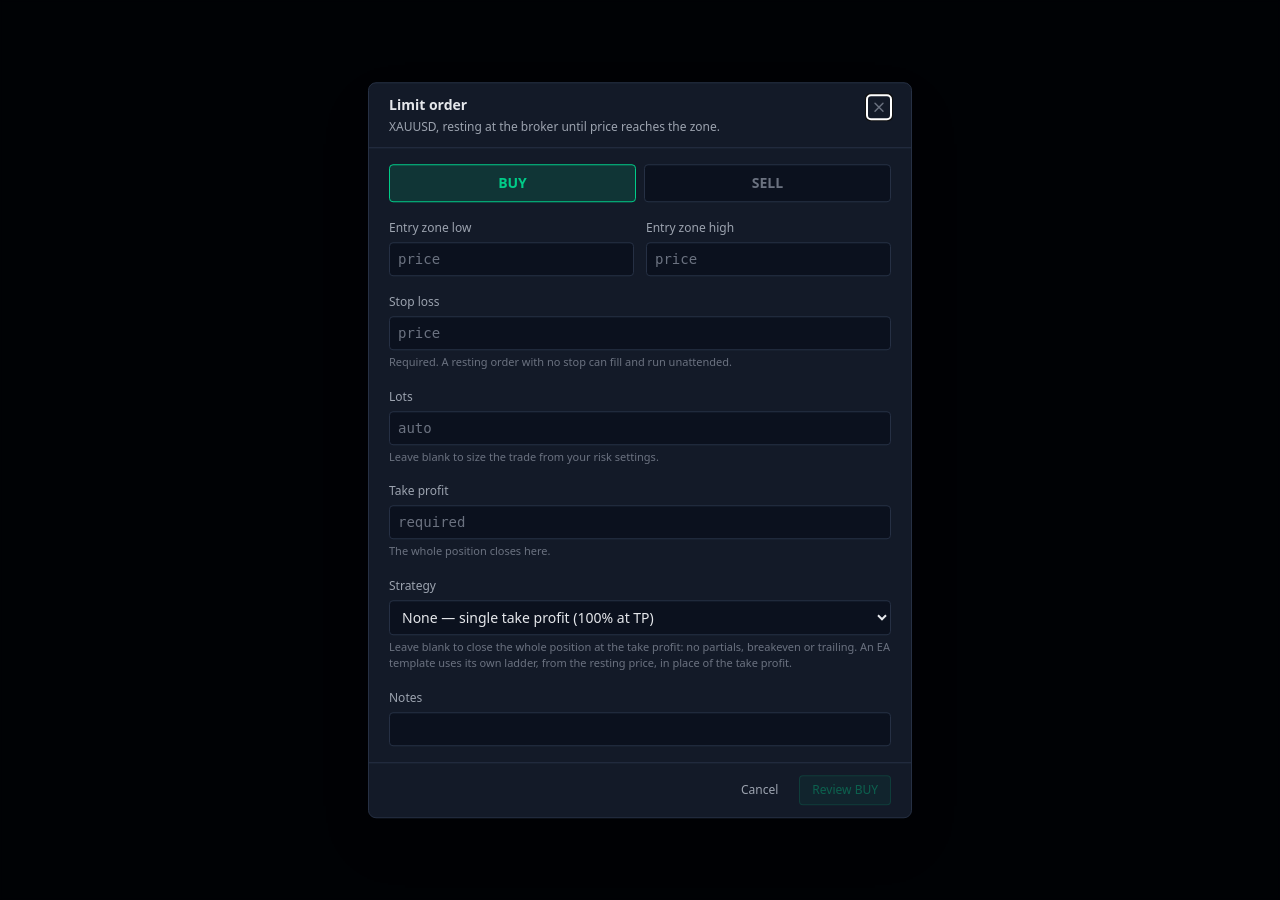
Test: the confirmation › names the instrument, direction, size and both edges of the zone
Type "2430" into the field labelled "Entry zone low" at point(512, 259), box [389,242,634,276]
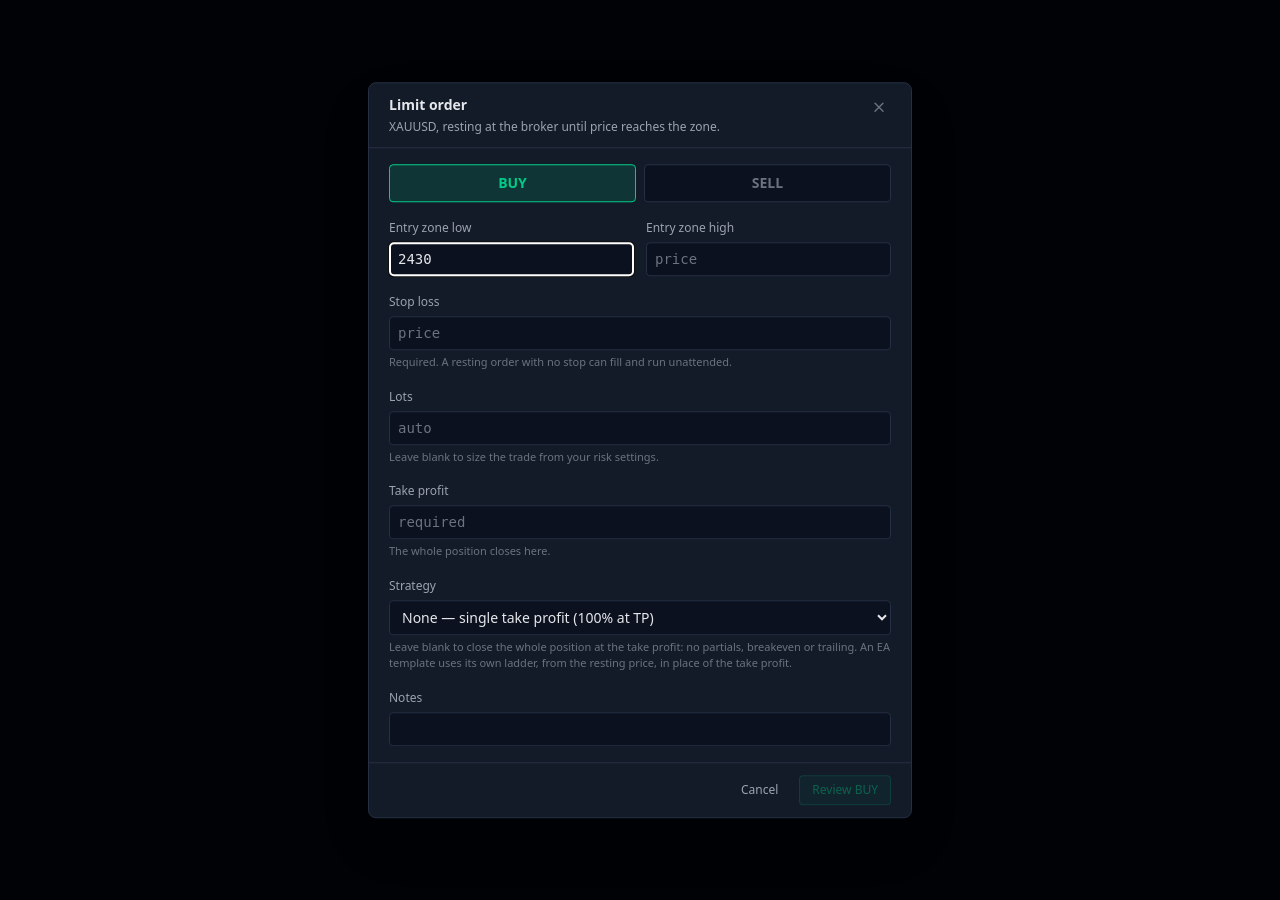
Type "2432" into the field labelled "Entry zone high" at point(768, 259), box [646,242,891,276]
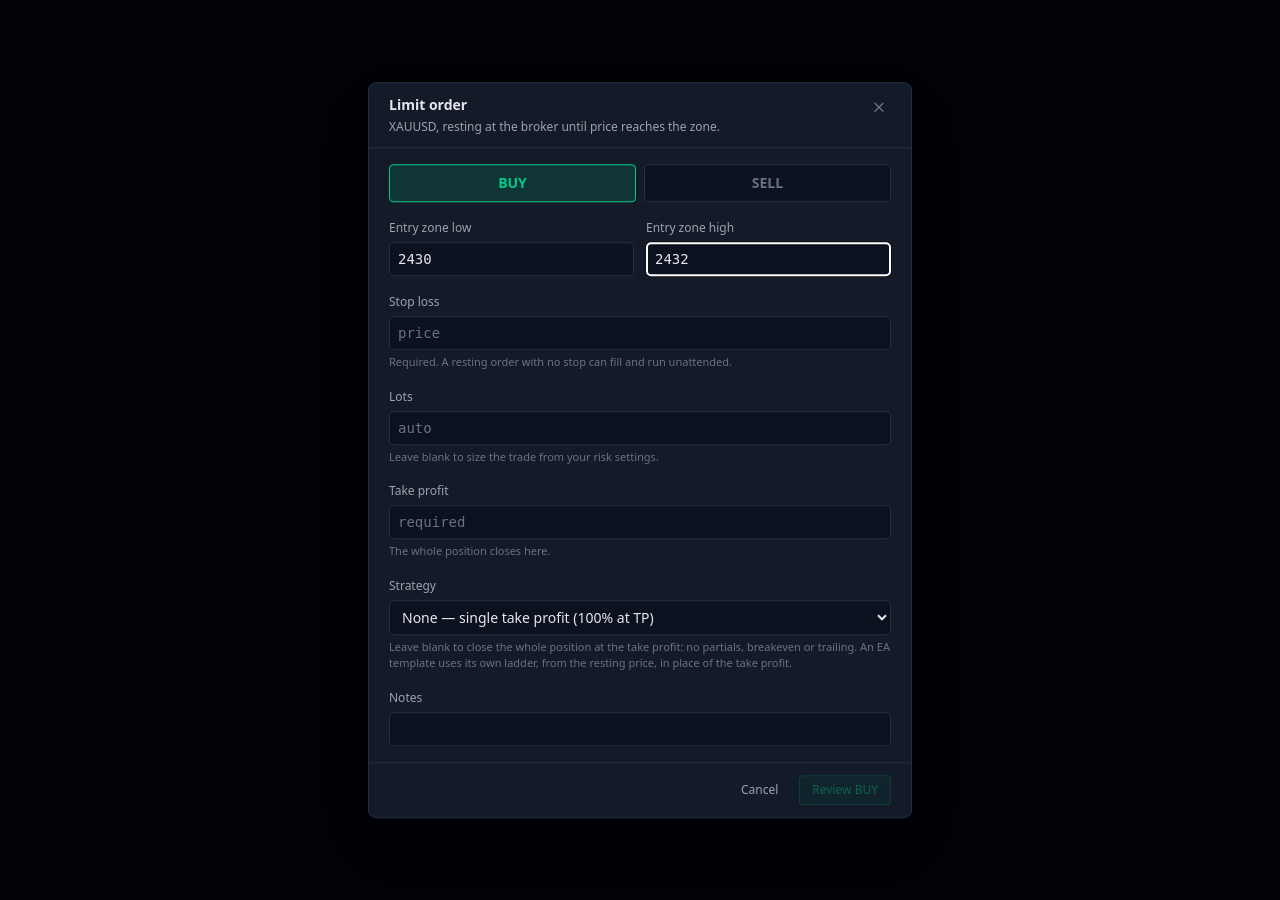
Type "2421" into the field labelled "Stop loss" at point(640, 333), box [389,316,891,350]
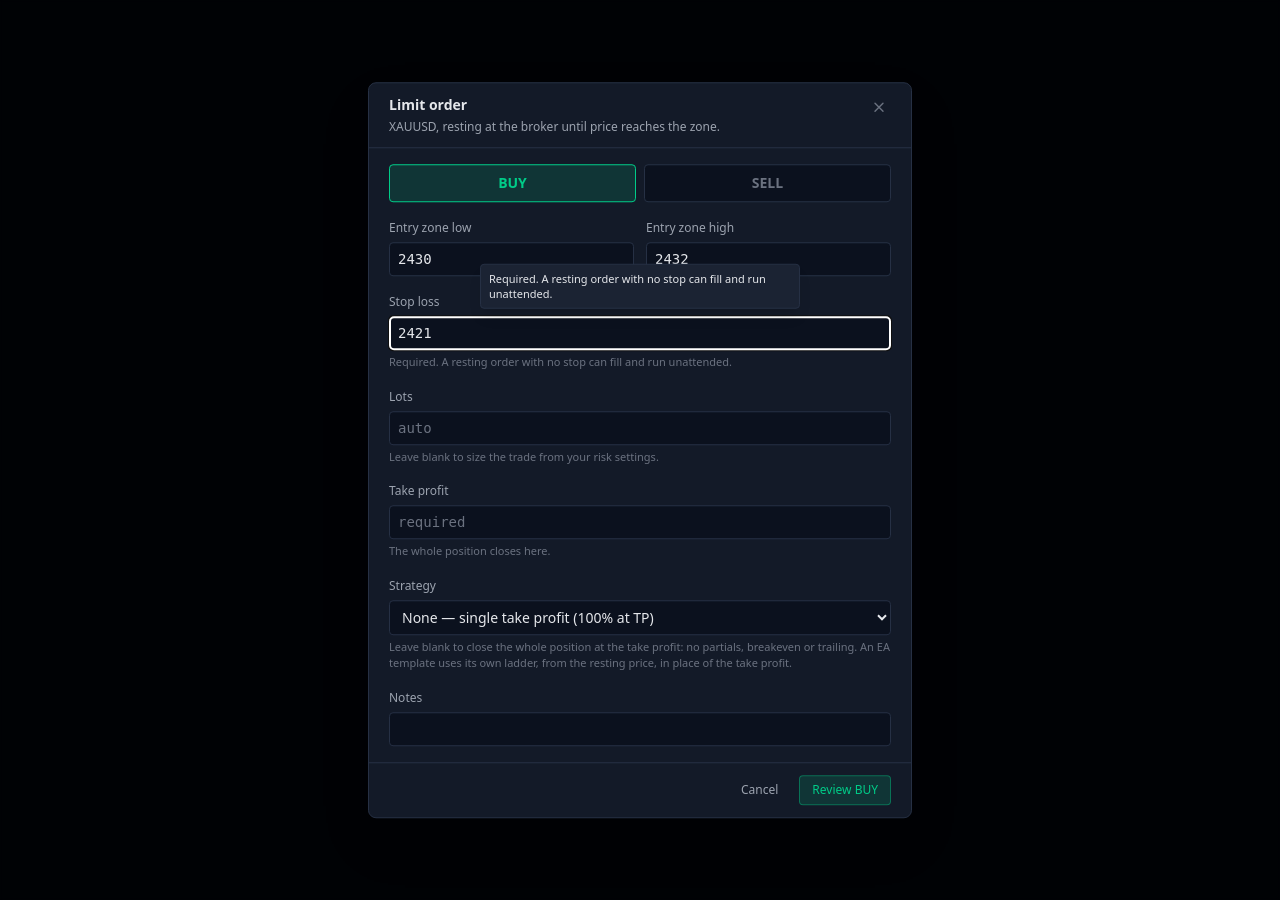
Type "0.05" into the field labelled "Lots" at point(640, 428), box [389,411,891,445]
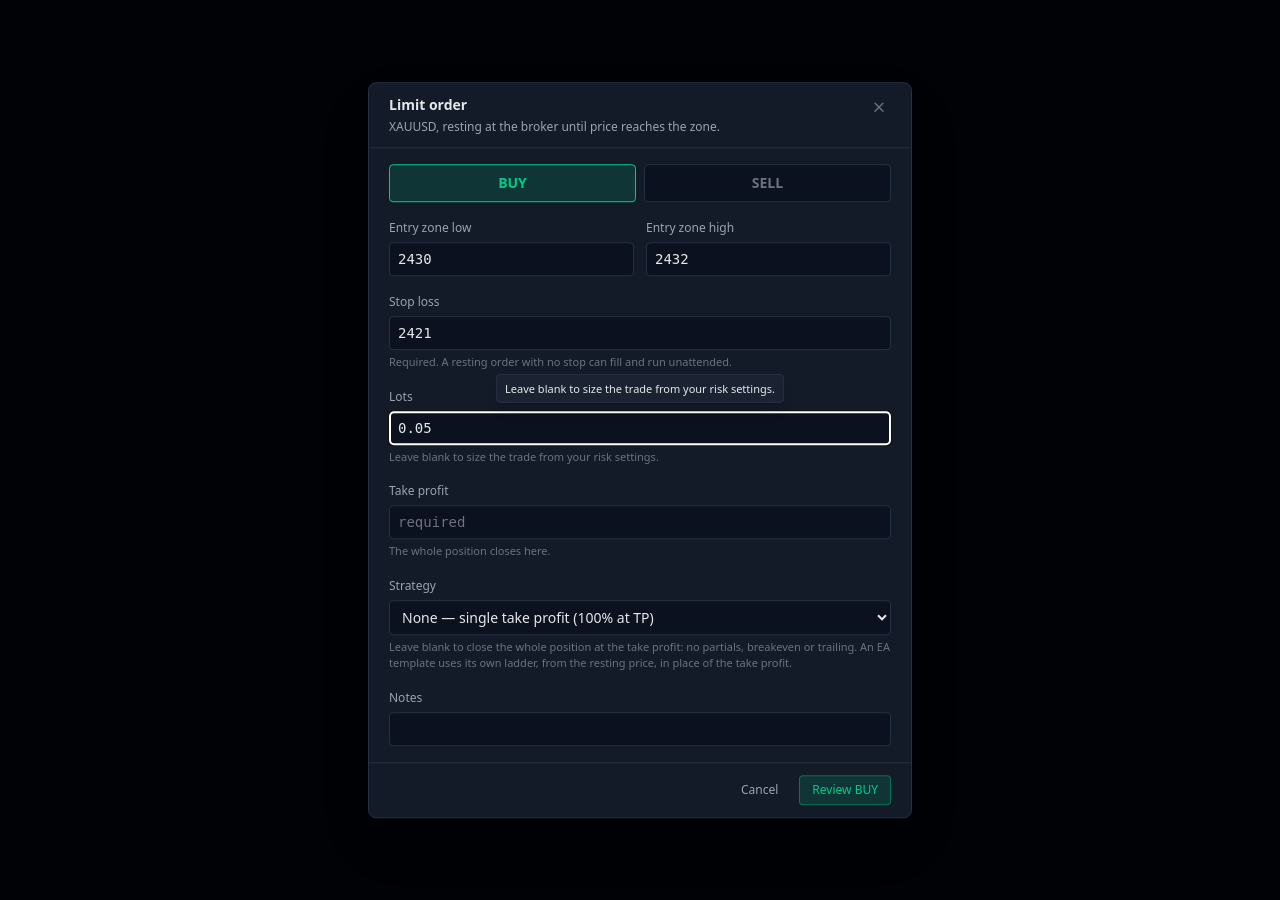
Click the button "Review BUY" at point(845, 790), box [799,775,891,805]
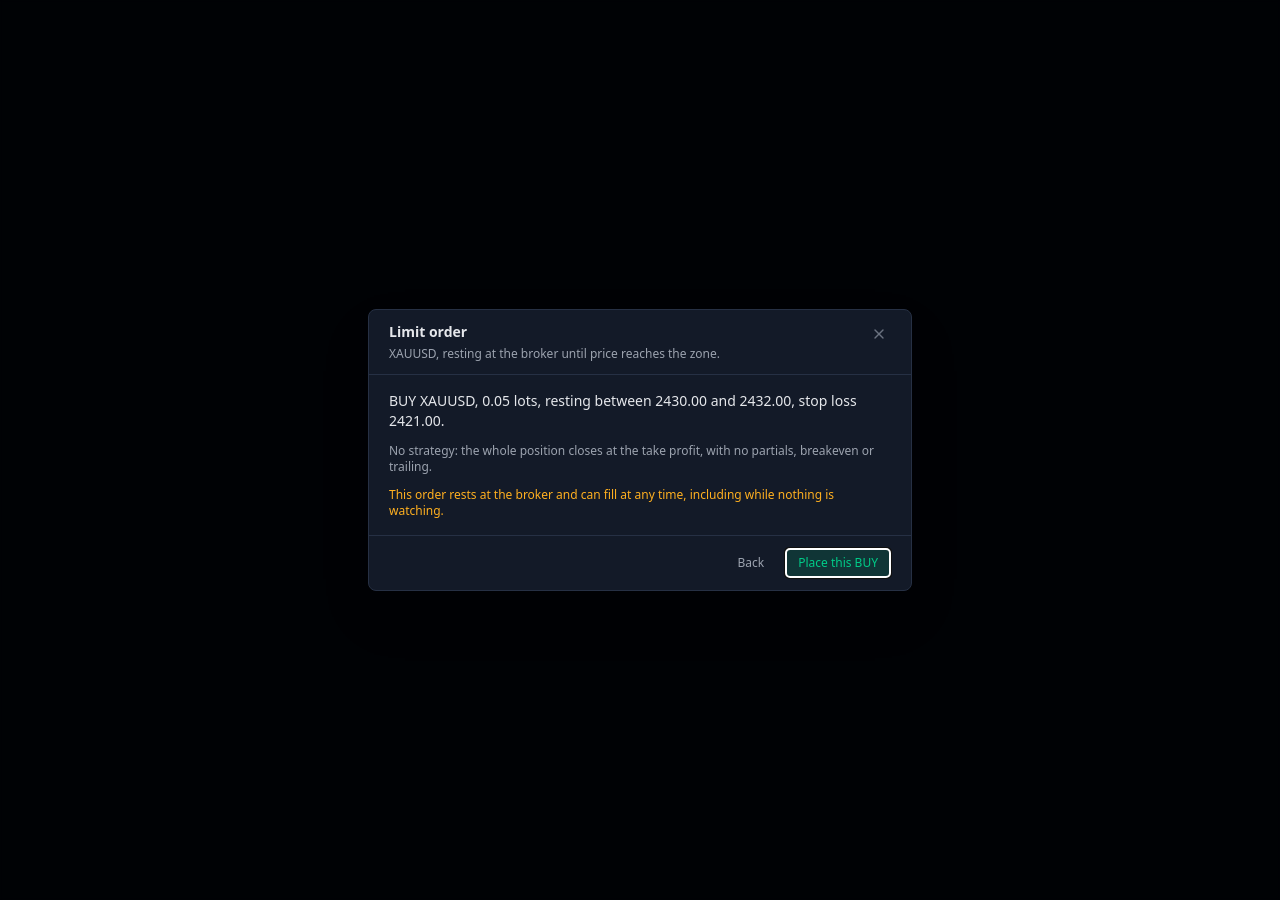
Now the text with test id "limit-order-summary" shows "BUY XAUUSD", box [389,391,857,430]
Now the text with test id "limit-order-summary" shows "0.05 lots", box [389,391,857,430]
Now the text with test id "limit-order-summary" shows "2430.00 and 2432.00", box [389,391,857,430]
